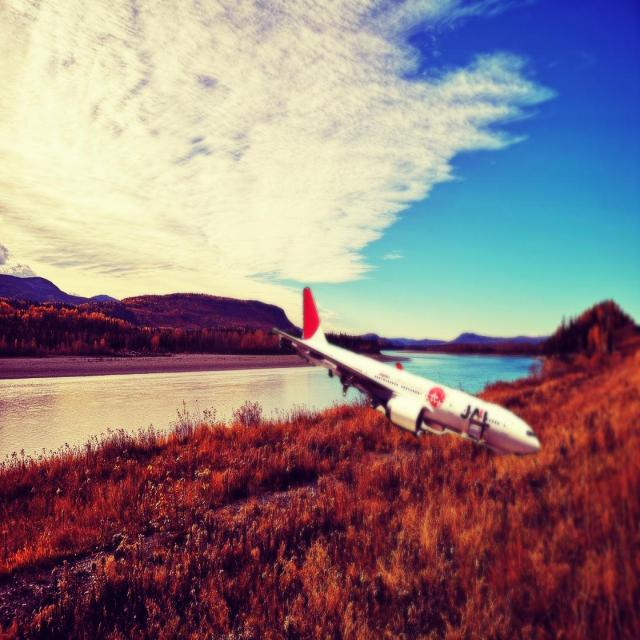airplane: (271, 286, 541, 456)
